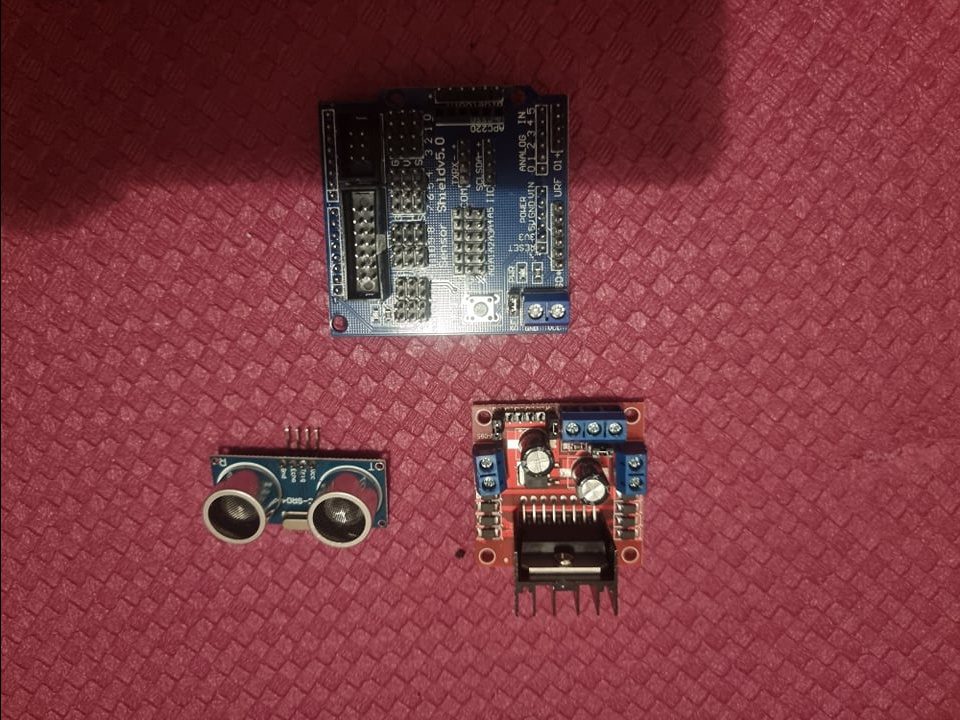5V EXPANSION: (319, 86, 574, 343)
MOTOR: (464, 397, 653, 616)
SENSOR: (204, 455, 384, 543)
